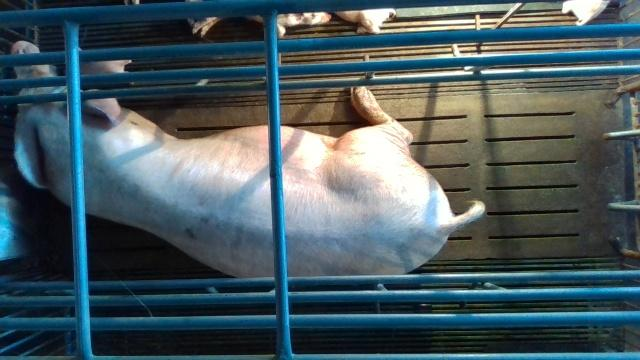piglet: (193, 12, 332, 38)
sow-sit: (12, 41, 487, 277)
